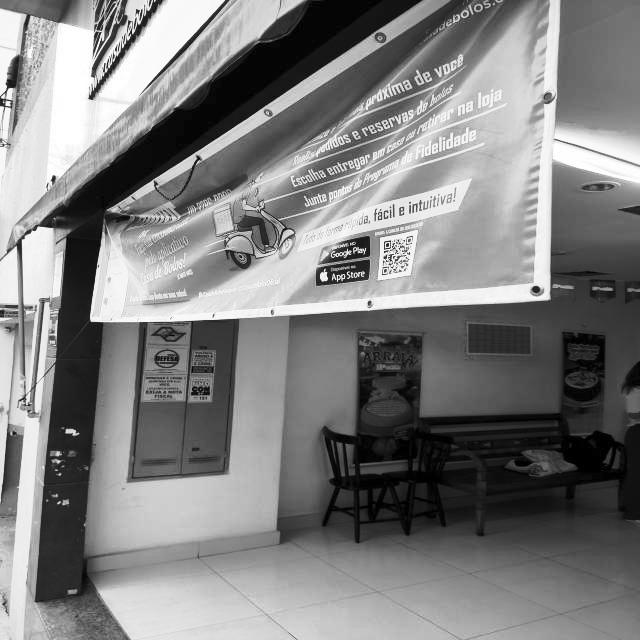qr_code: (382, 236, 413, 275)
